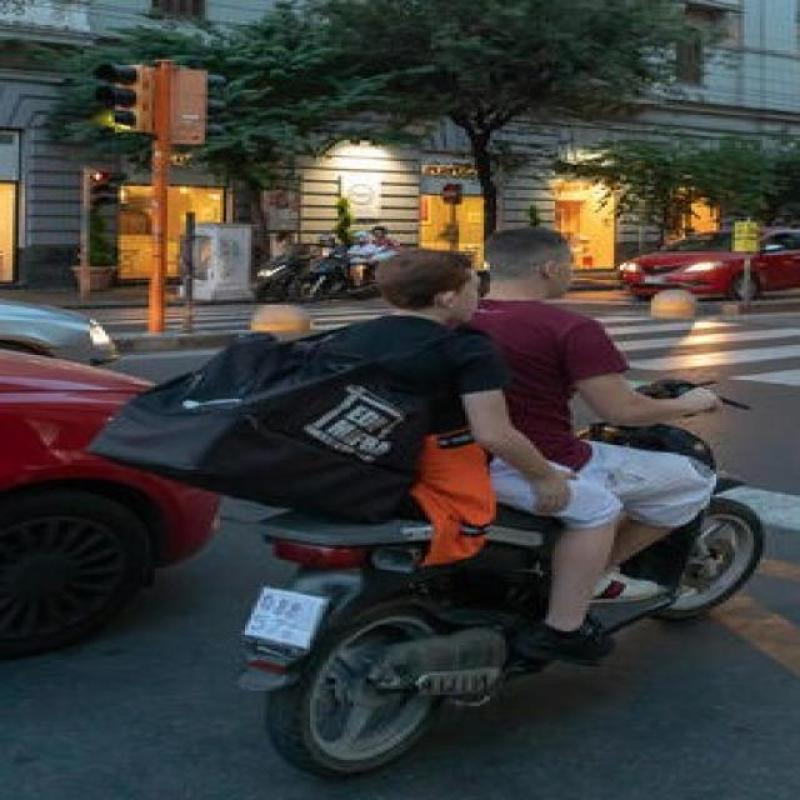nohelmet: (490, 205, 600, 310), (370, 233, 486, 330)
